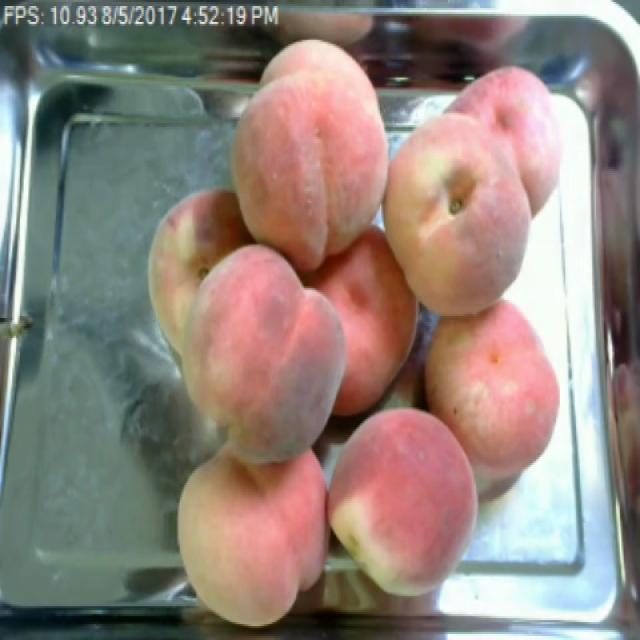Fruit: (365, 50, 548, 330), (138, 231, 358, 463), (220, 28, 400, 280), (164, 431, 343, 638), (319, 398, 489, 606), (414, 292, 574, 479)
